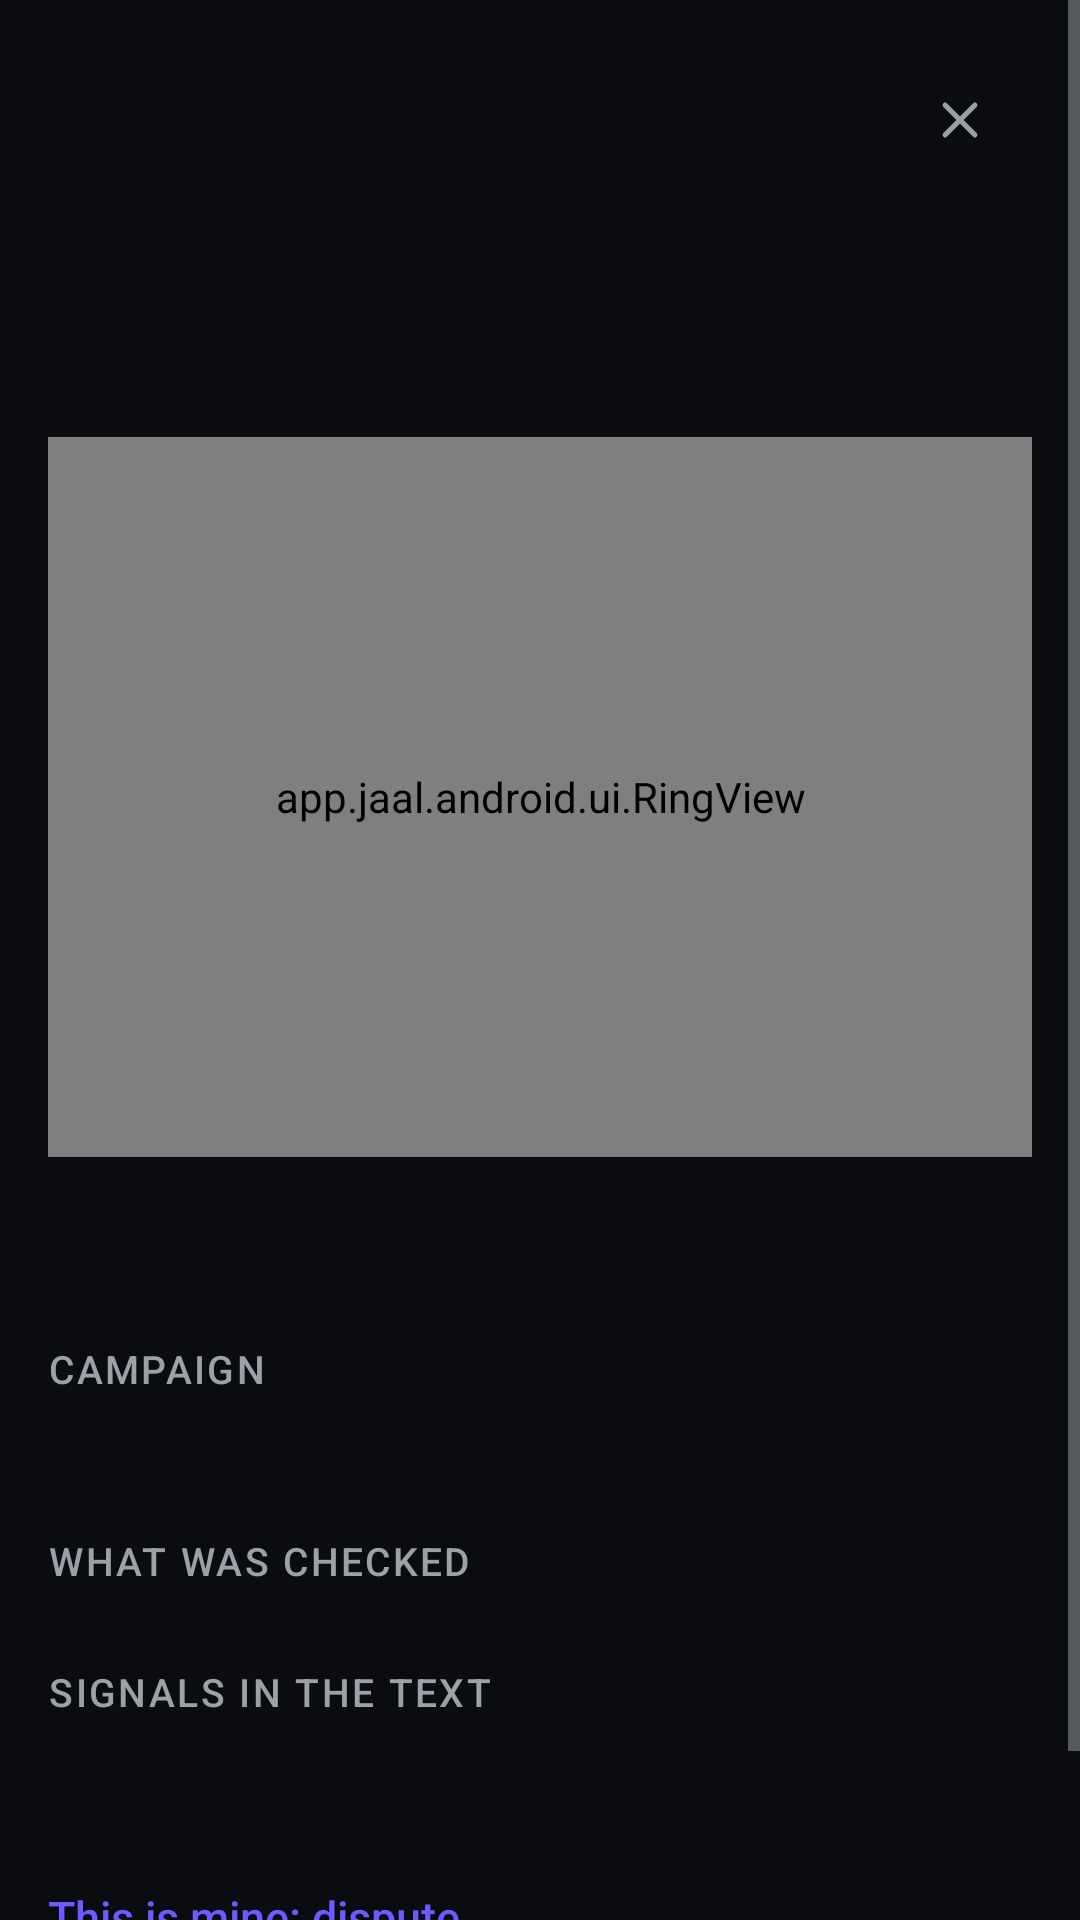

Where to tap for icons on this 1080*1920 app screen, as [x,y]:
Close: [960,120]
